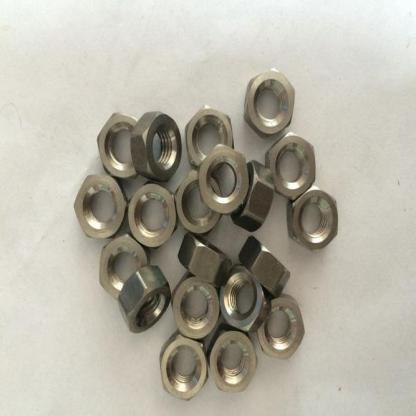FOD: (116, 263, 172, 335), (241, 68, 295, 141), (73, 171, 127, 244), (235, 232, 291, 302), (131, 110, 181, 184), (266, 133, 318, 201), (94, 110, 144, 180), (198, 146, 249, 214), (170, 274, 220, 342), (232, 155, 276, 232), (208, 330, 259, 396), (125, 183, 175, 250), (288, 189, 342, 251), (158, 336, 209, 400), (176, 168, 224, 236), (258, 290, 303, 361), (98, 236, 150, 296), (184, 106, 234, 168), (219, 263, 263, 330), (178, 228, 230, 278)
